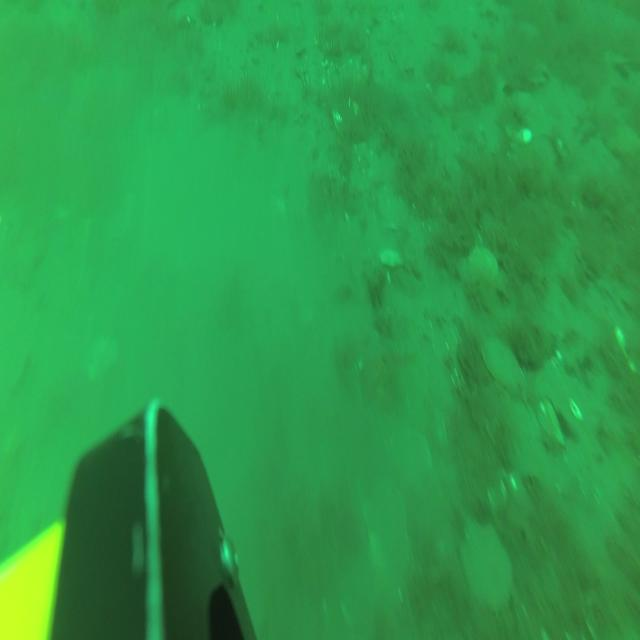scallop: (459, 514, 516, 612), (481, 334, 528, 392), (467, 242, 499, 288), (436, 80, 462, 112)
